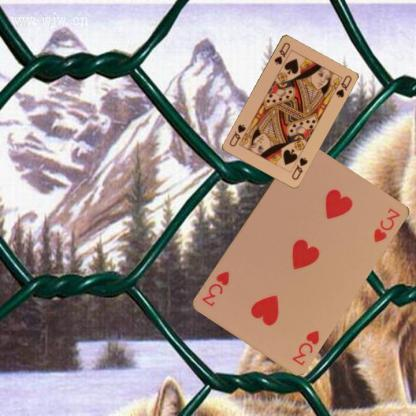3h: (289, 326, 321, 367)
Qs: (289, 154, 309, 181), (272, 39, 291, 66)
